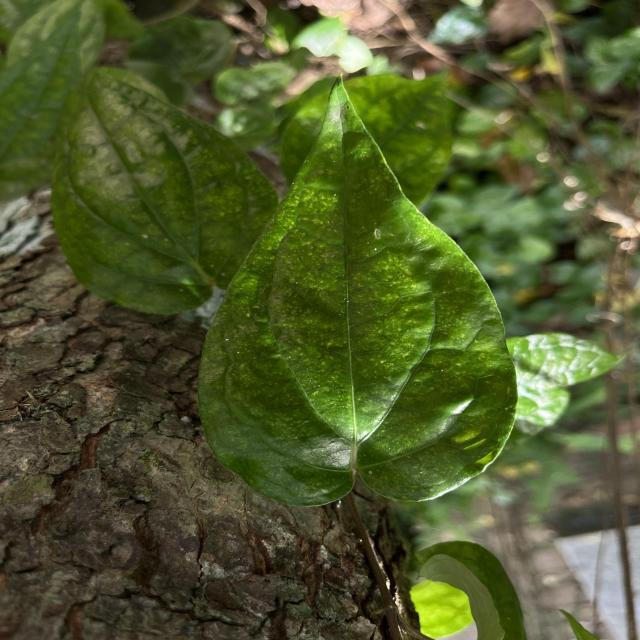Piper betle: (193, 69, 519, 510)
